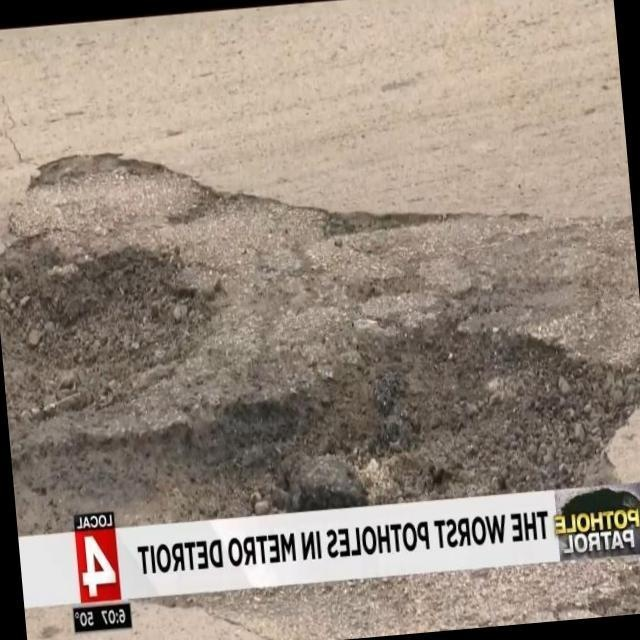pothole: (0, 155, 640, 533), (2, 156, 630, 528), (156, 558, 640, 640)
